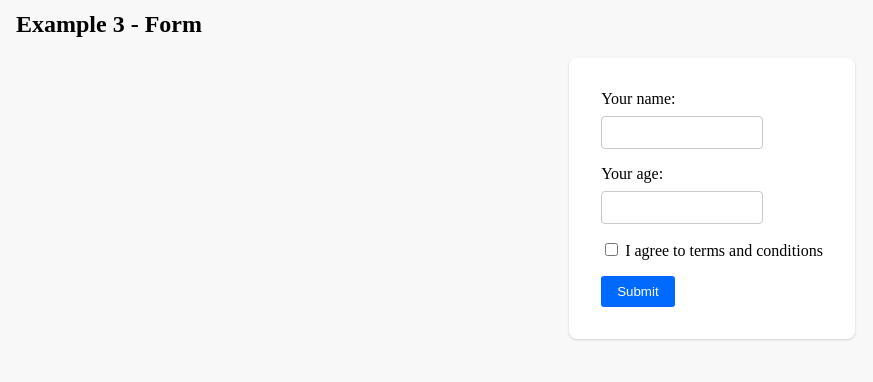
Scenario: Form Component › show validation error when age is negative number
The width and height of the screenshot is (873, 382).
Type "Jane Doe" into the field labelled "Your name:" at (682, 132), box [601, 116, 763, 149]
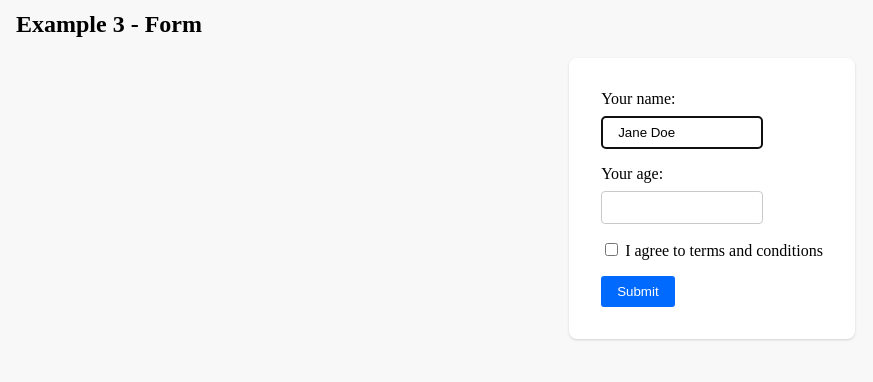
Type "-30" into the number field labelled "Your age:" at (682, 207), box [601, 191, 763, 224]
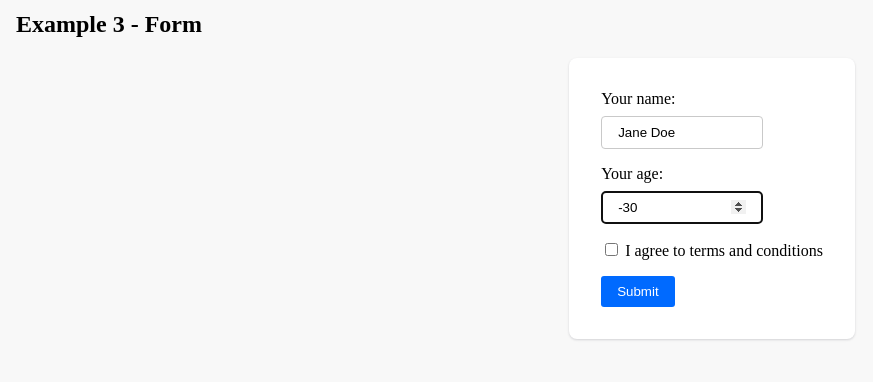
Click the checkbox labelled "I agree to terms and conditions" at (612, 249), box [605, 243, 618, 256]
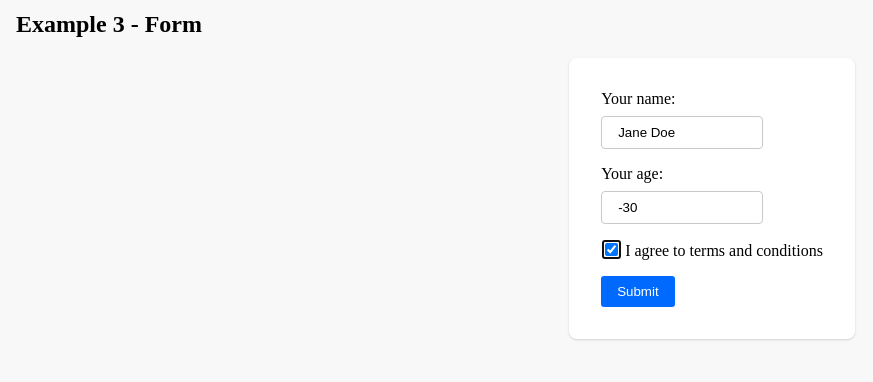
Click the button "Submit" at (638, 291), box [601, 276, 675, 307]
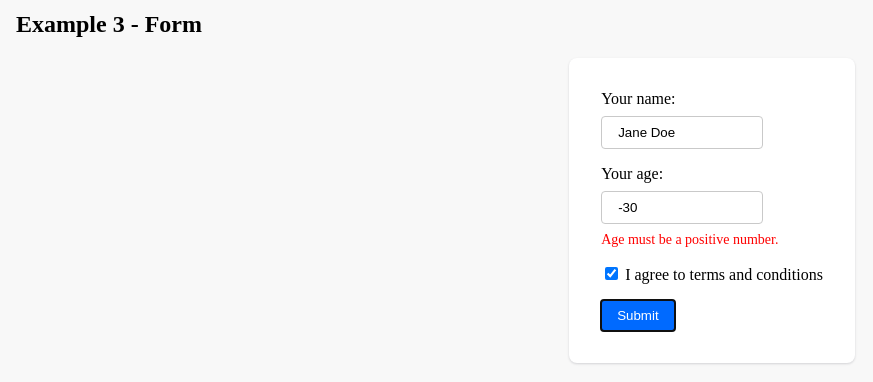
expect the text "Age must be a positive number." is shown: met, box [601, 232, 778, 247]
